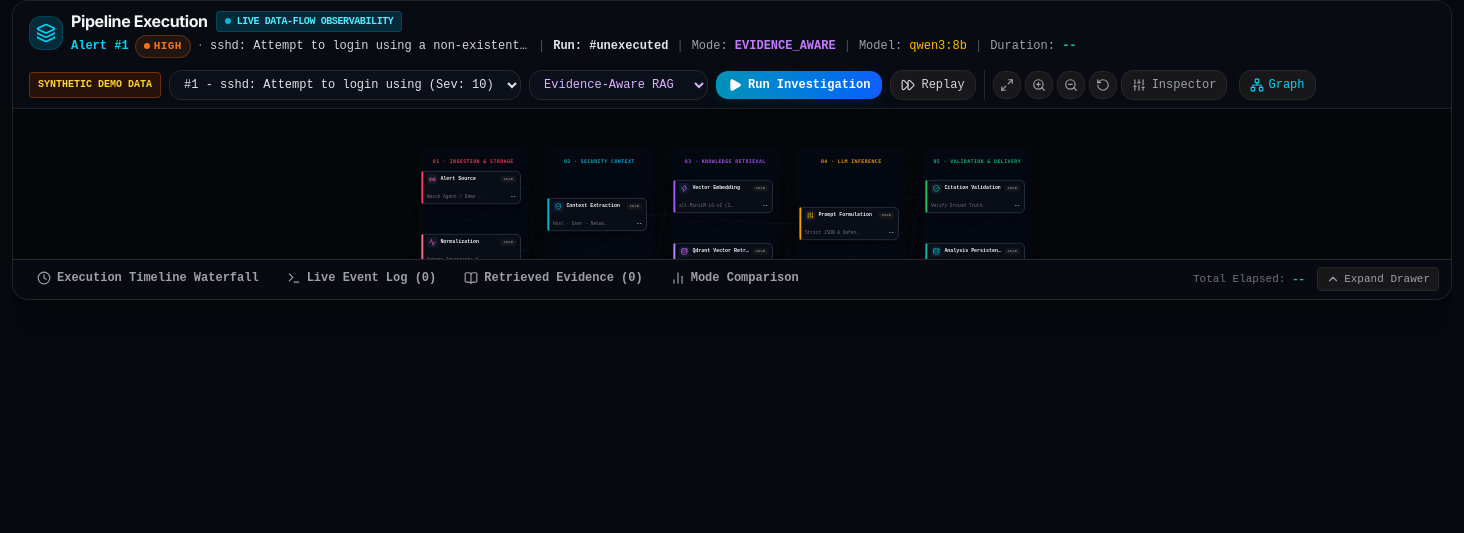
Scenario: ExecutionTracesPage › switches bottom panels between Timeline Waterfall, Live Event Log, Retrieved Evidence, and Mode Comparison
The width and height of the screenshot is (1464, 533).
Expected: the text "Live Event Log (0)" is shown, [307,270,436,286]
Expected: the text "Retrieved Evidence (0)" is shown, [484,270,643,286]
// Click Live Event Log (expands bottom drawer)
Click the button "Live Event Log (0)": point(361, 279) [275,262,448,296]
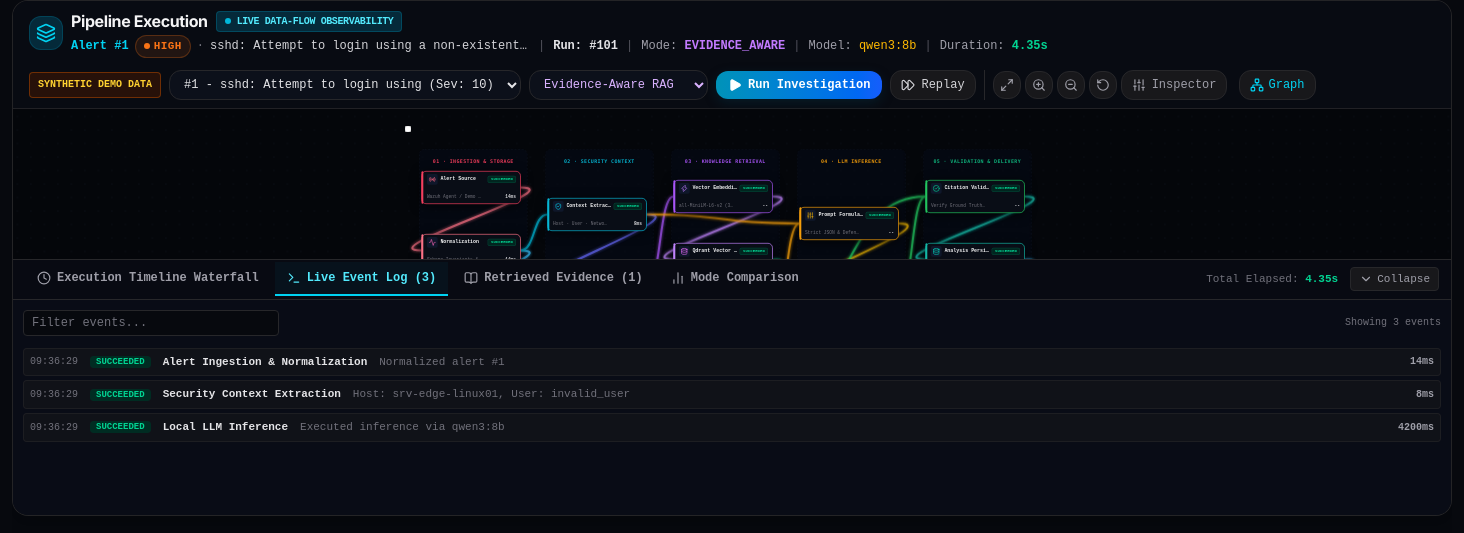
Result: the field with placeholder "Filter events..." is shown at [23,310,279,336]
// Click Retrieved Evidence
Click the button "Retrieved Evidence (1)": point(554, 279) [452,262,655,296]
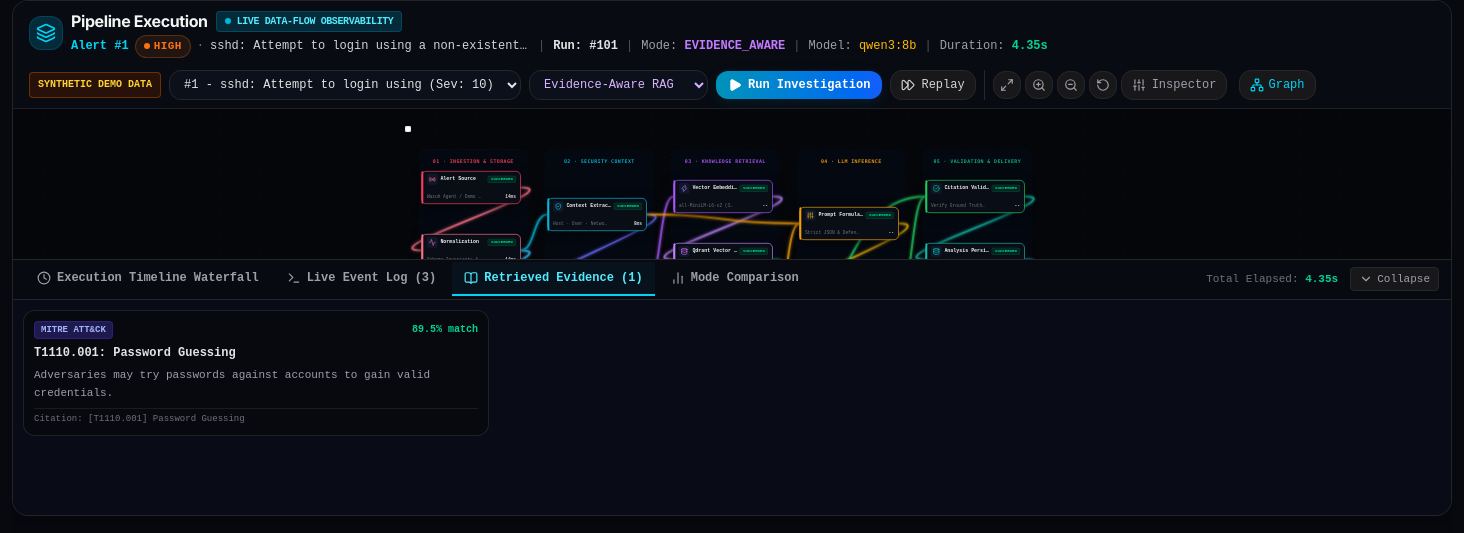
Result: the text "T1110.001: Password Guessing" is shown at [34,346,236,360]
Result: the text "89.5% match" is shown at [412,323,478,336]
// Click Mode Comparison
Click the button "Mode Comparison": point(735, 279) [659,262,811,296]
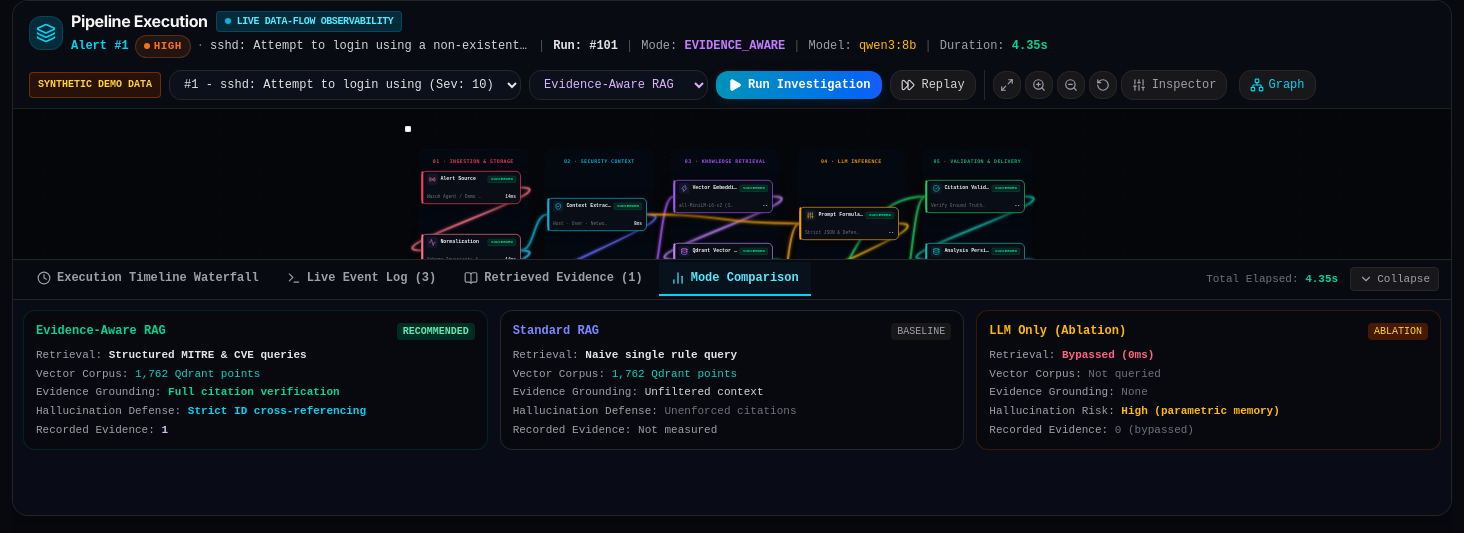
Result: the text "RECOMMENDED" is shown at [397,323,475,340]
Result: the text "BASELINE" is shown at [891,323,951,340]
